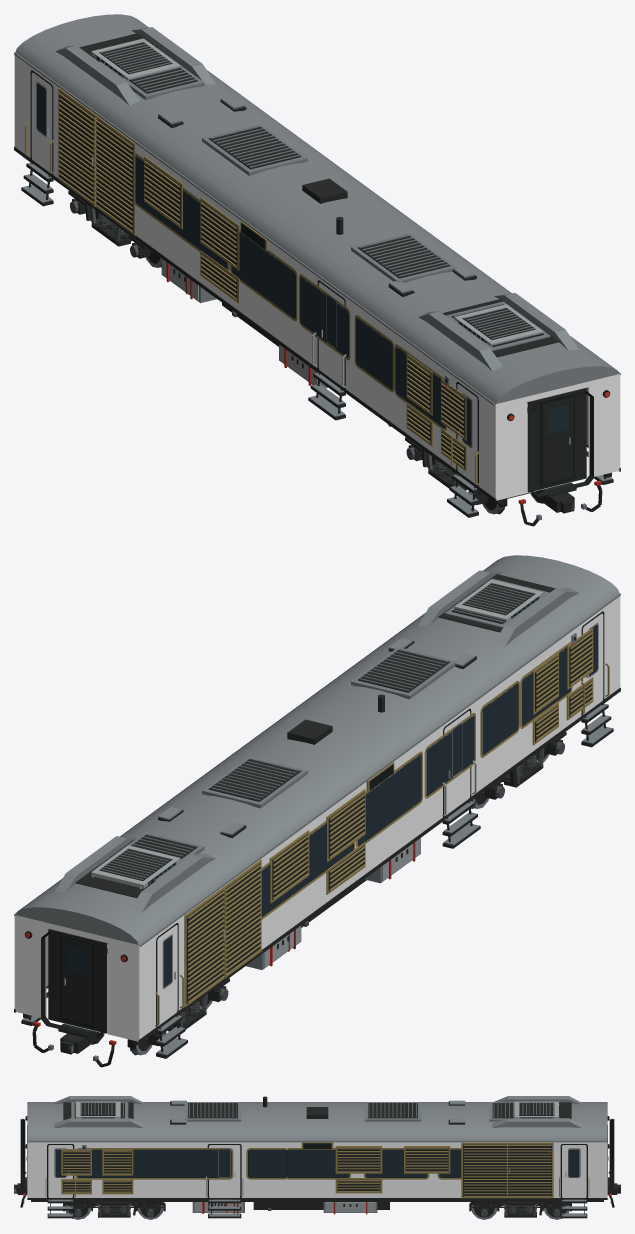
File: nusantara-explorer-medium-packed.glb
The picture shows the model from 3 angles, top to bottom: view 1: azimuth 30°, elevation 25°; view 2: azimuth 150°, elevation 25°; view 3: azimuth 270°, elevation 25°; orthographic projection. The views are drawn at different scales.
Parts seen in each view (by area): view 1: passenger-body (×6), passenger-door--1-1 (×2), passenger-door--1--1, rail-bogie--1, rail-bogie-1; view 2: passenger-body (×7), passenger-door--1-1 (×2), passenger-door--1--1, rail-bogie-1, rail-bogie--1; view 3: passenger-body (×5), passenger-door-1-1 (×2), passenger-door-1--1, rail-bogie--1, rail-bogie-1.
Boxes of the visible parts, x1,y1,x2,y2 form: passenger-body (×6): [14, 14, 620, 526]; passenger-door--1-1 (×2): [318, 282, 477, 484]; passenger-door--1--1: [31, 72, 52, 173]; rail-bogie--1: [68, 191, 160, 258]; rail-bogie-1: [405, 437, 538, 507]; passenger-body (×7): [14, 555, 620, 1067]; passenger-door--1-1 (×2): [444, 613, 603, 815]; passenger-door--1--1: [157, 925, 177, 1025]; rail-bogie-1: [471, 732, 566, 801]; rail-bogie--1: [127, 978, 229, 1048]; passenger-body (×5): [17, 1096, 617, 1218]; passenger-door-1-1 (×2): [48, 1145, 240, 1197]; passenger-door-1--1: [562, 1145, 586, 1197]; rail-bogie--1: [469, 1202, 571, 1217]; rail-bogie-1: [63, 1202, 165, 1217].
Size of the model in its own units: 3.33 by 3.97 by 20.04.
